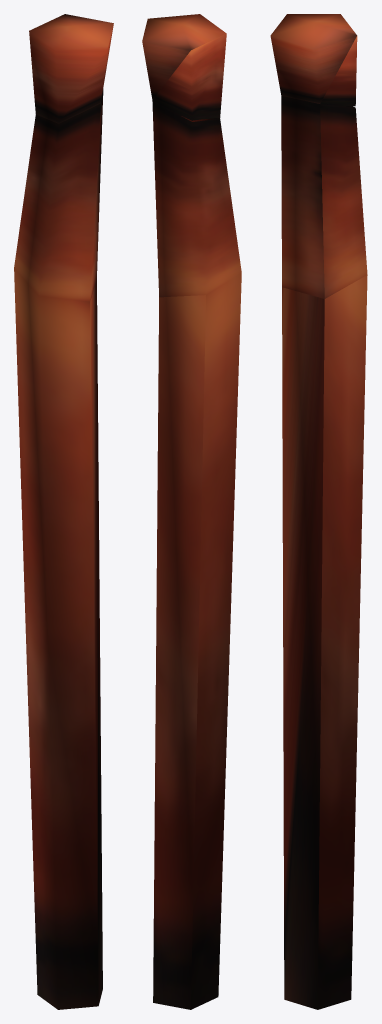
The model's file is pier_wood_pole.DAE.
3 renders of one model, left to right at view 1: azimuth 30°, elevation 25°; view 2: azimuth 210°, elevation 25°; view 3: azimuth 270°, elevation 25°, orthographic.
Parts seen in each view (by area): view 1: Cylinder01; view 2: Cylinder01; view 3: Cylinder01.
Boxes of the visible parts, x1,y1,x2,y2 form: Cylinder01: (14,14,113,1009); Cylinder01: (142,14,241,1009); Cylinder01: (270,14,367,1009).
Size of the model in its own units: 1.54 by 17.33 by 1.57.
